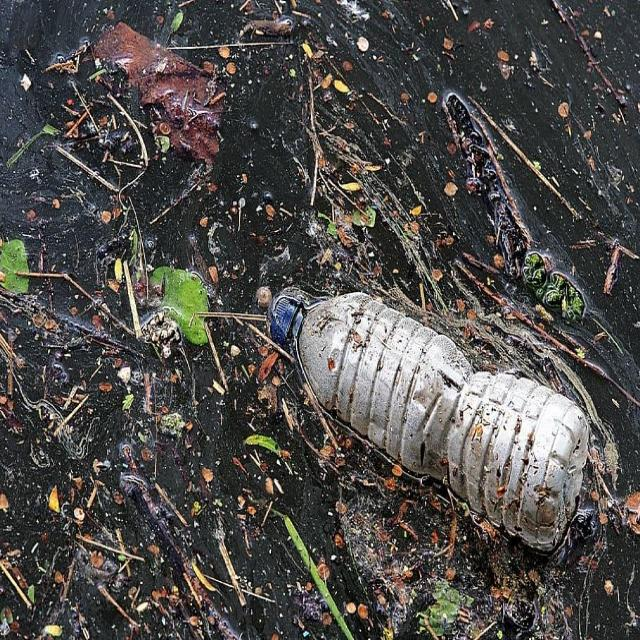bottle: (262, 261, 601, 563)
